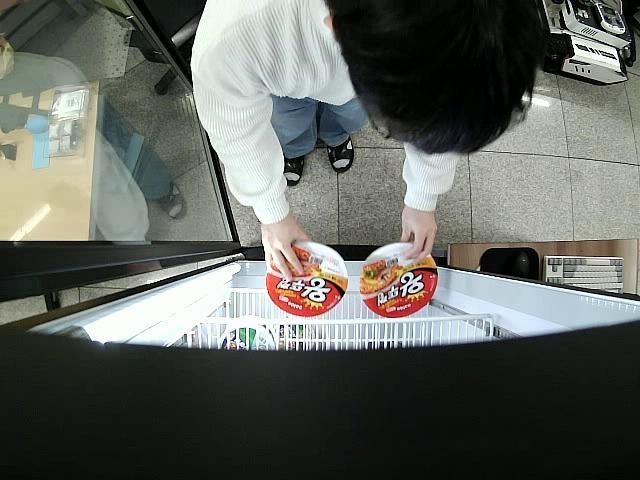10_wangTtukkeong: (267, 240, 348, 316), (360, 242, 438, 318)
